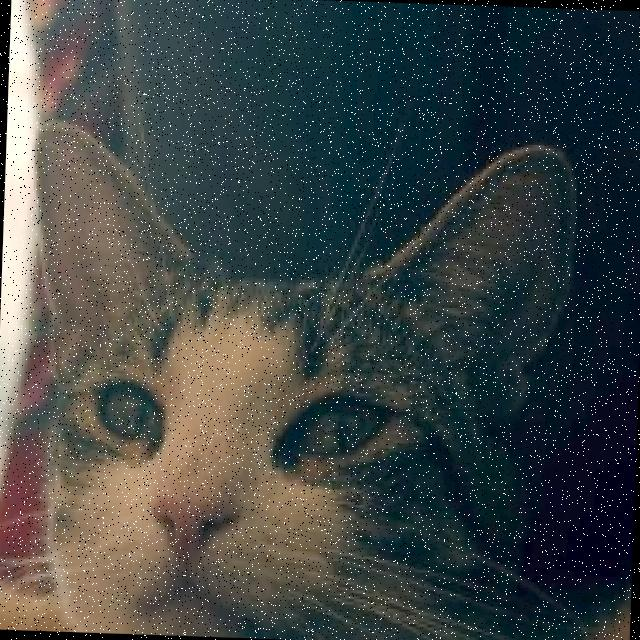Angry: (33, 301, 446, 640)
